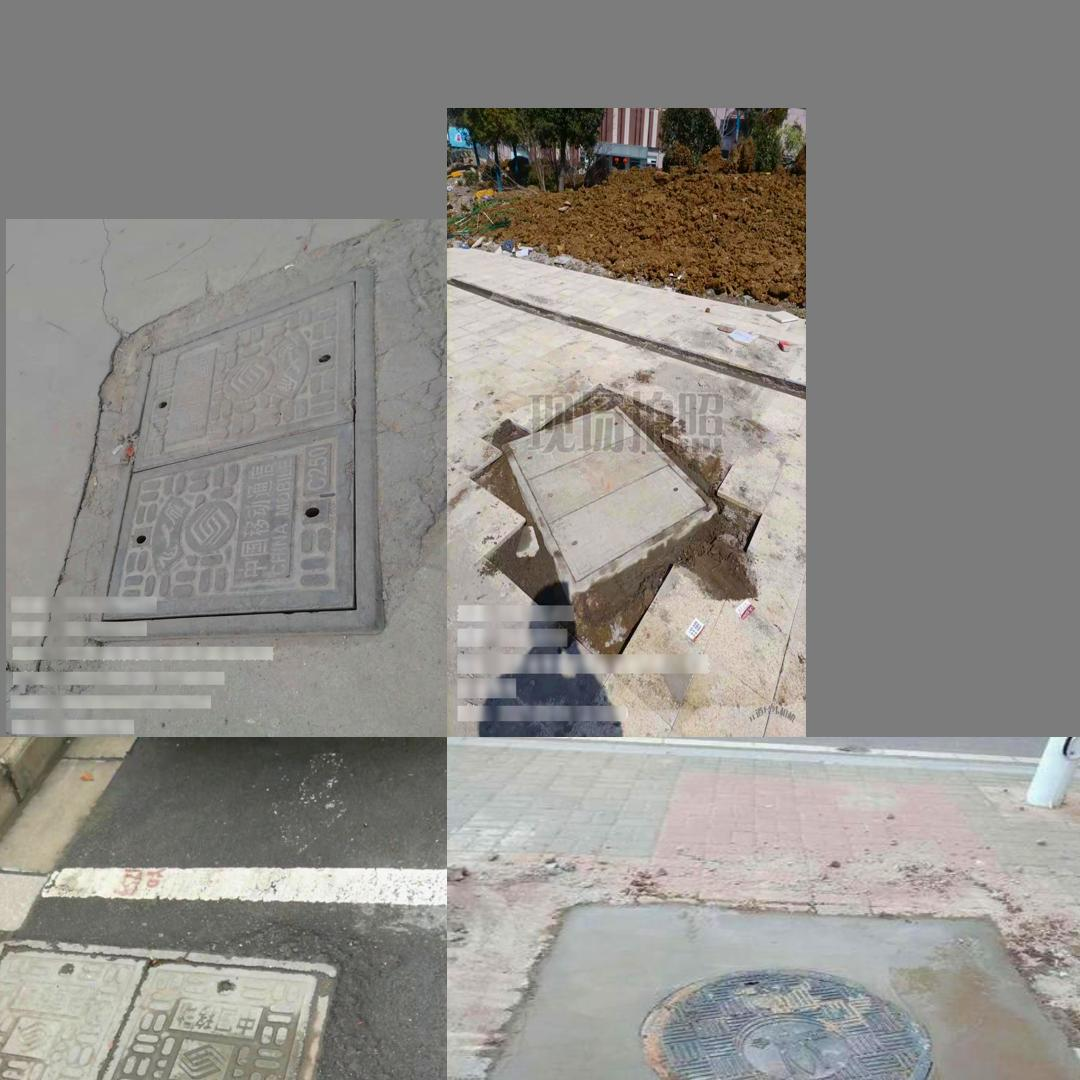good: (78, 268, 384, 637), (470, 900, 1080, 1080), (0, 940, 334, 1080), (501, 404, 717, 600)
